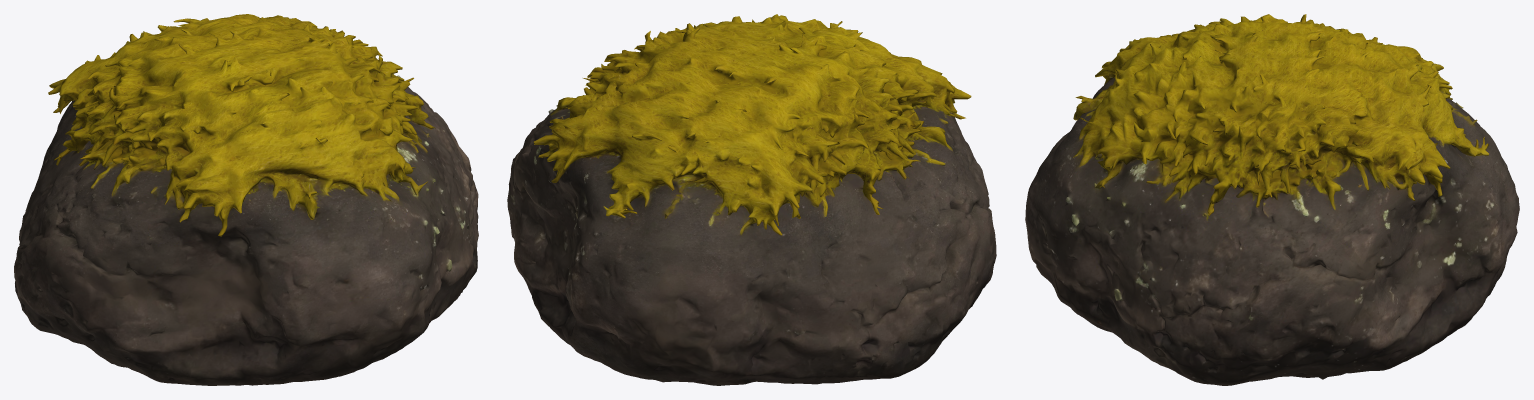
3 views of the same model, side by side, from view 1: azimuth 30°, elevation 25°; view 2: azimuth 150°, elevation 25°; view 3: azimuth 270°, elevation 25° (orthographic). The views are drawn at different scales.
Parts seen in each view (by area): view 1: tripo_node_a73e9a61-2154-4688-b047-cbed8178aa6b; view 2: tripo_node_a73e9a61-2154-4688-b047-cbed8178aa6b; view 3: tripo_node_a73e9a61-2154-4688-b047-cbed8178aa6b.
Boxes of the visible parts, left/top/right/bottom form: tripo_node_a73e9a61-2154-4688-b047-cbed8178aa6b: left=14, top=14, right=478, bottom=385; tripo_node_a73e9a61-2154-4688-b047-cbed8178aa6b: left=507, top=14, right=996, bottom=385; tripo_node_a73e9a61-2154-4688-b047-cbed8178aa6b: left=1025, top=14, right=1519, bottom=385.
Bounding box in the file's own units: 0.9981 × 0.5775 × 1.
1 material, 1 textured.
